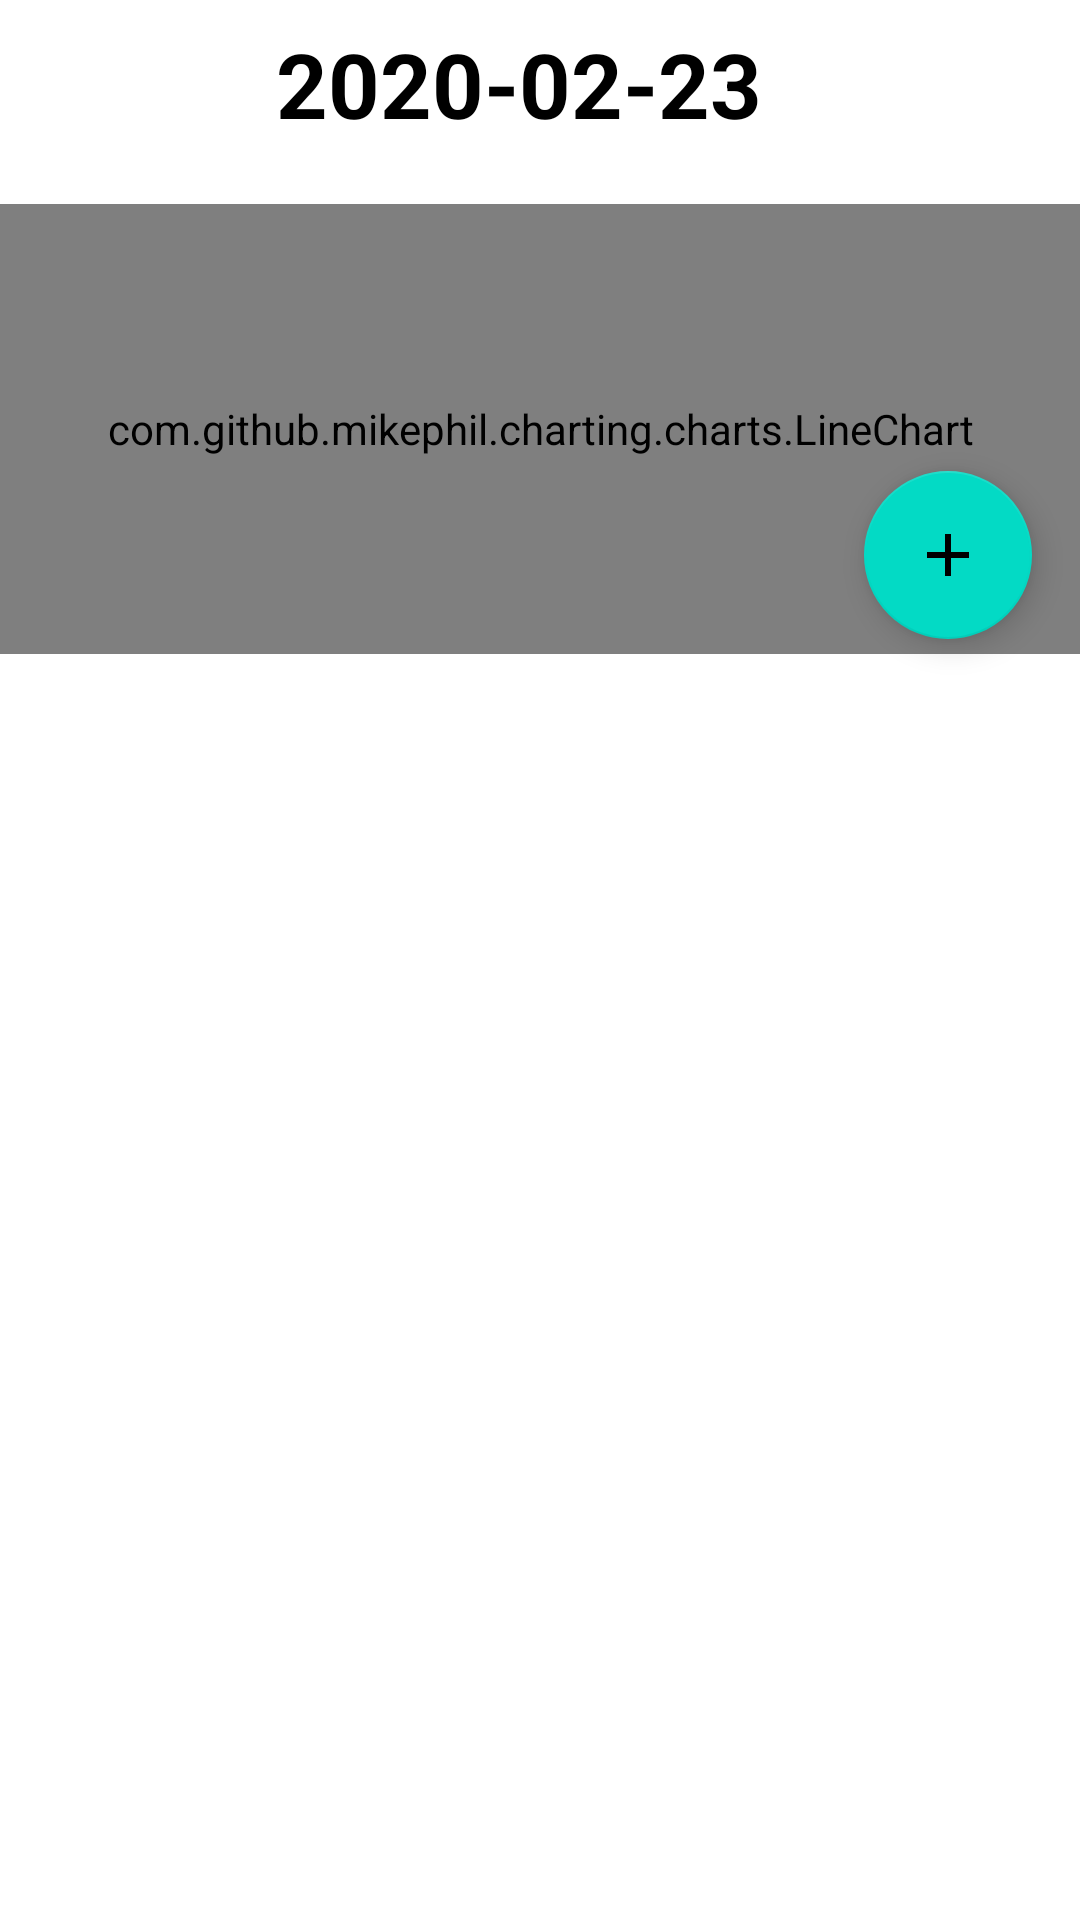

Screen size 1080w x 1920h. Icon name, then its center in pixels as [x,y]:
추가: [948,555]
